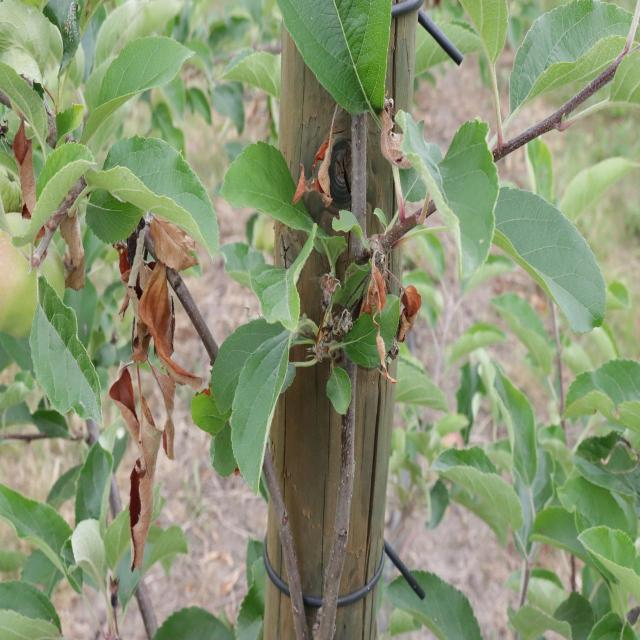-FireBlight-: (128, 197, 196, 390), (112, 358, 156, 581), (360, 225, 420, 376), (46, 198, 92, 288), (10, 116, 38, 232), (302, 120, 336, 210), (376, 96, 408, 180)
